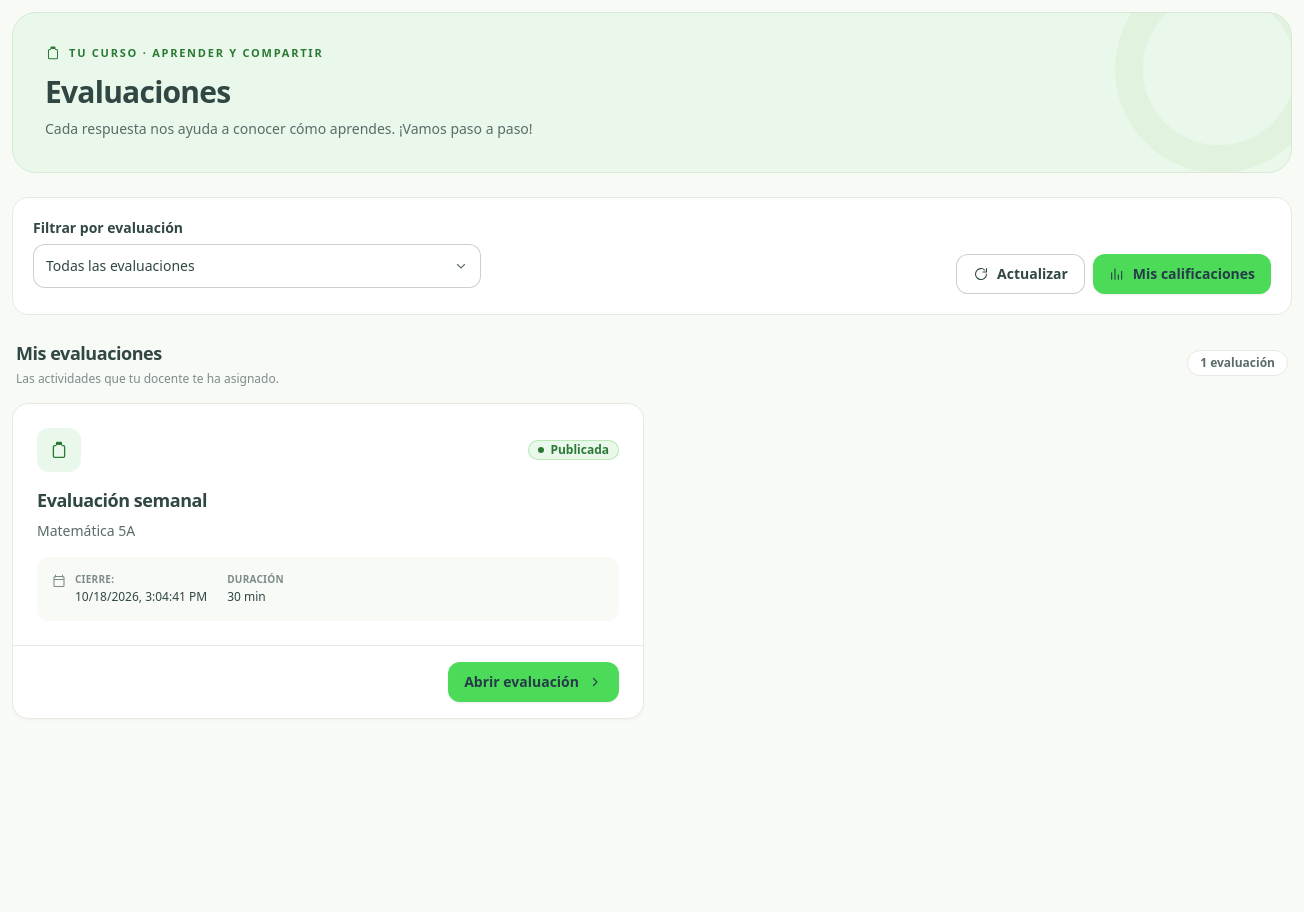
Test: AssessmentsPage estudiante › permite al estudiante consultar su historial y promedio del área
Expected: the heading "Evaluación semanal" is shown, top-left (37, 488), bottom-right (207, 512)
Click the button "Mis calificaciones": (1182, 274) top-left (1093, 254), bottom-right (1271, 294)
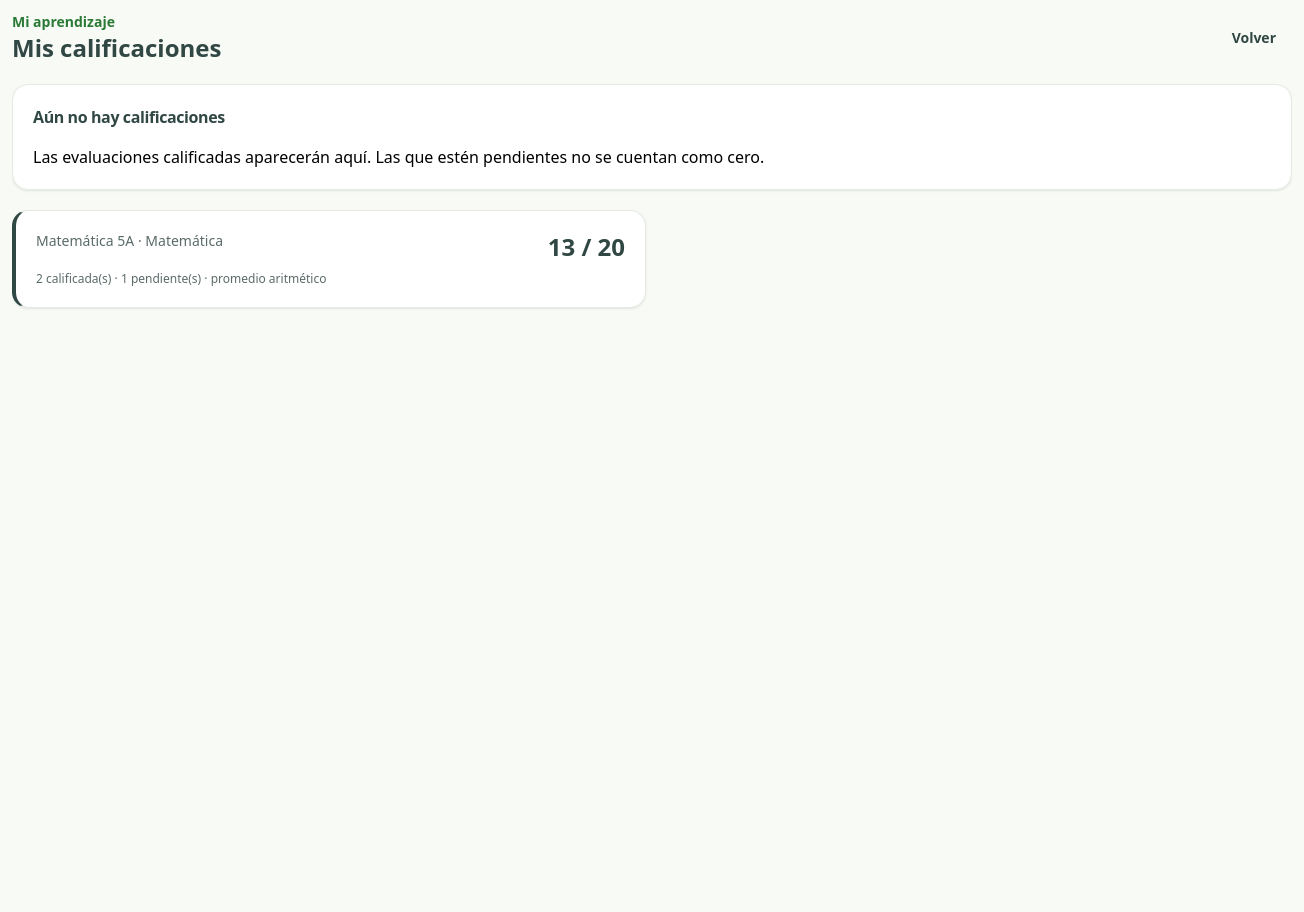
Expected: the heading "Mis calificaciones" is shown, top-left (12, 32), bottom-right (221, 64)
Result: the text "13 / 20" is shown at top-left (548, 231), bottom-right (625, 263)
